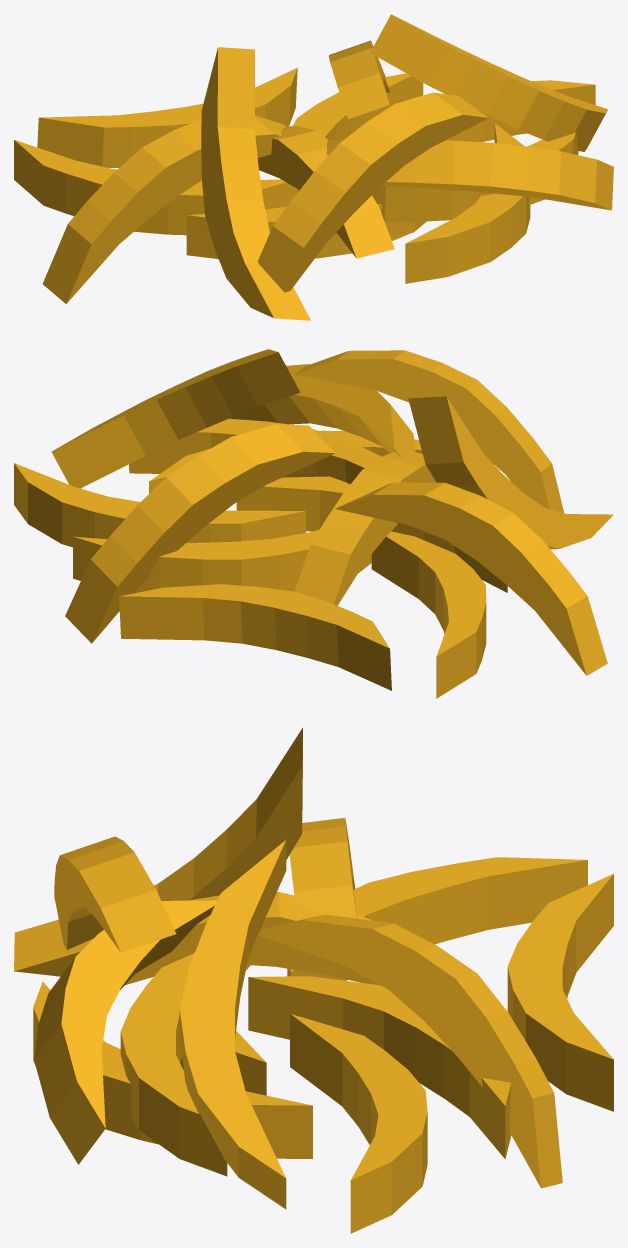
The model's file is batatas.glb.
3 views of the same model, one above another, from view 1: azimuth 30°, elevation 25°; view 2: azimuth 150°, elevation 25°; view 3: azimuth 270°, elevation 25° (orthographic). The views are drawn at different scales.
Visible parts, largest first — view 1: Cube.017; view 2: Cube.017; view 3: Cube.017.
Boxes of the visible parts, x1,y1,x2,y2 form: Cube.017: (14,14,613,320); Cube.017: (14,349,613,698); Cube.017: (14,727,613,1233).
Bounding box in the file's own units: 4.24 × 1.65 × 3.01.
